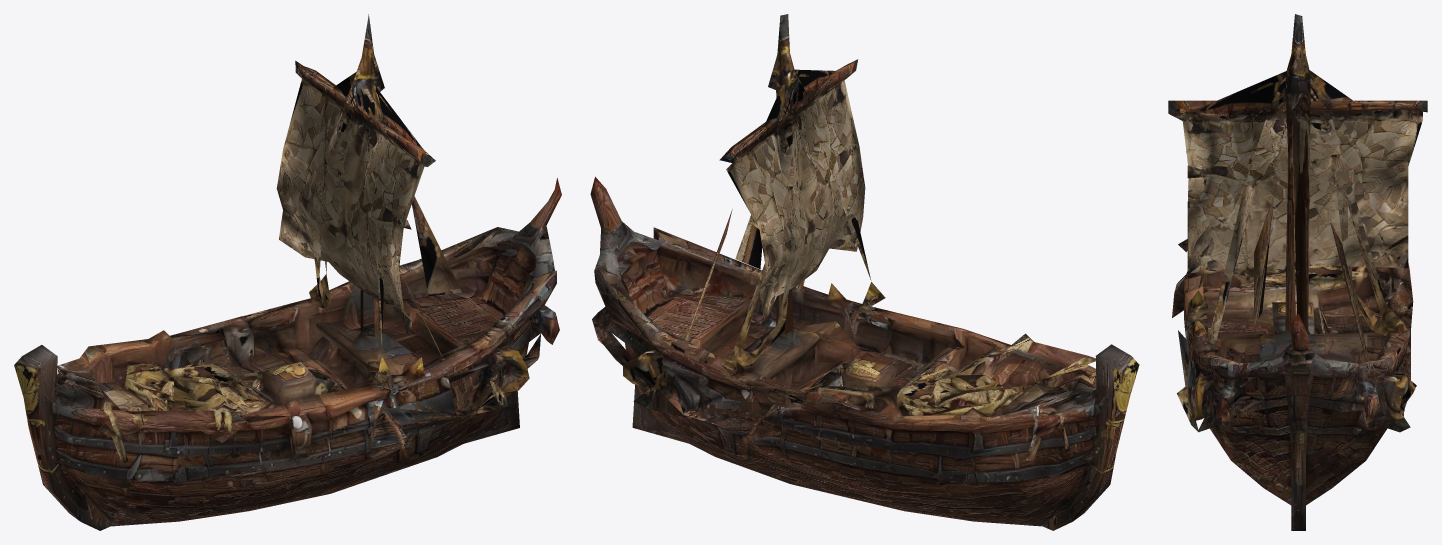
File: harbor_boat.glb
3 renders of one model, left to right at view 1: azimuth 30°, elevation 25°; view 2: azimuth 150°, elevation 25°; view 3: azimuth 270°, elevation 25°, orthographic.
Parts seen in each view (by area): view 1: tripo_node_fbd65eb3-e5ac-411e-a981-5ba15d06bad7; view 2: tripo_node_fbd65eb3-e5ac-411e-a981-5ba15d06bad7; view 3: tripo_node_fbd65eb3-e5ac-411e-a981-5ba15d06bad7.
Boxes of the visible parts, <box> form: tripo_node_fbd65eb3-e5ac-411e-a981-5ba15d06bad7: <box>14,14,561,530</box>; tripo_node_fbd65eb3-e5ac-411e-a981-5ba15d06bad7: <box>590,14,1139,530</box>; tripo_node_fbd65eb3-e5ac-411e-a981-5ba15d06bad7: <box>1168,14,1427,530</box>.
Size of the model in its own units: 0.9698 by 0.7838 by 0.408.
1 material, 1 textured.
